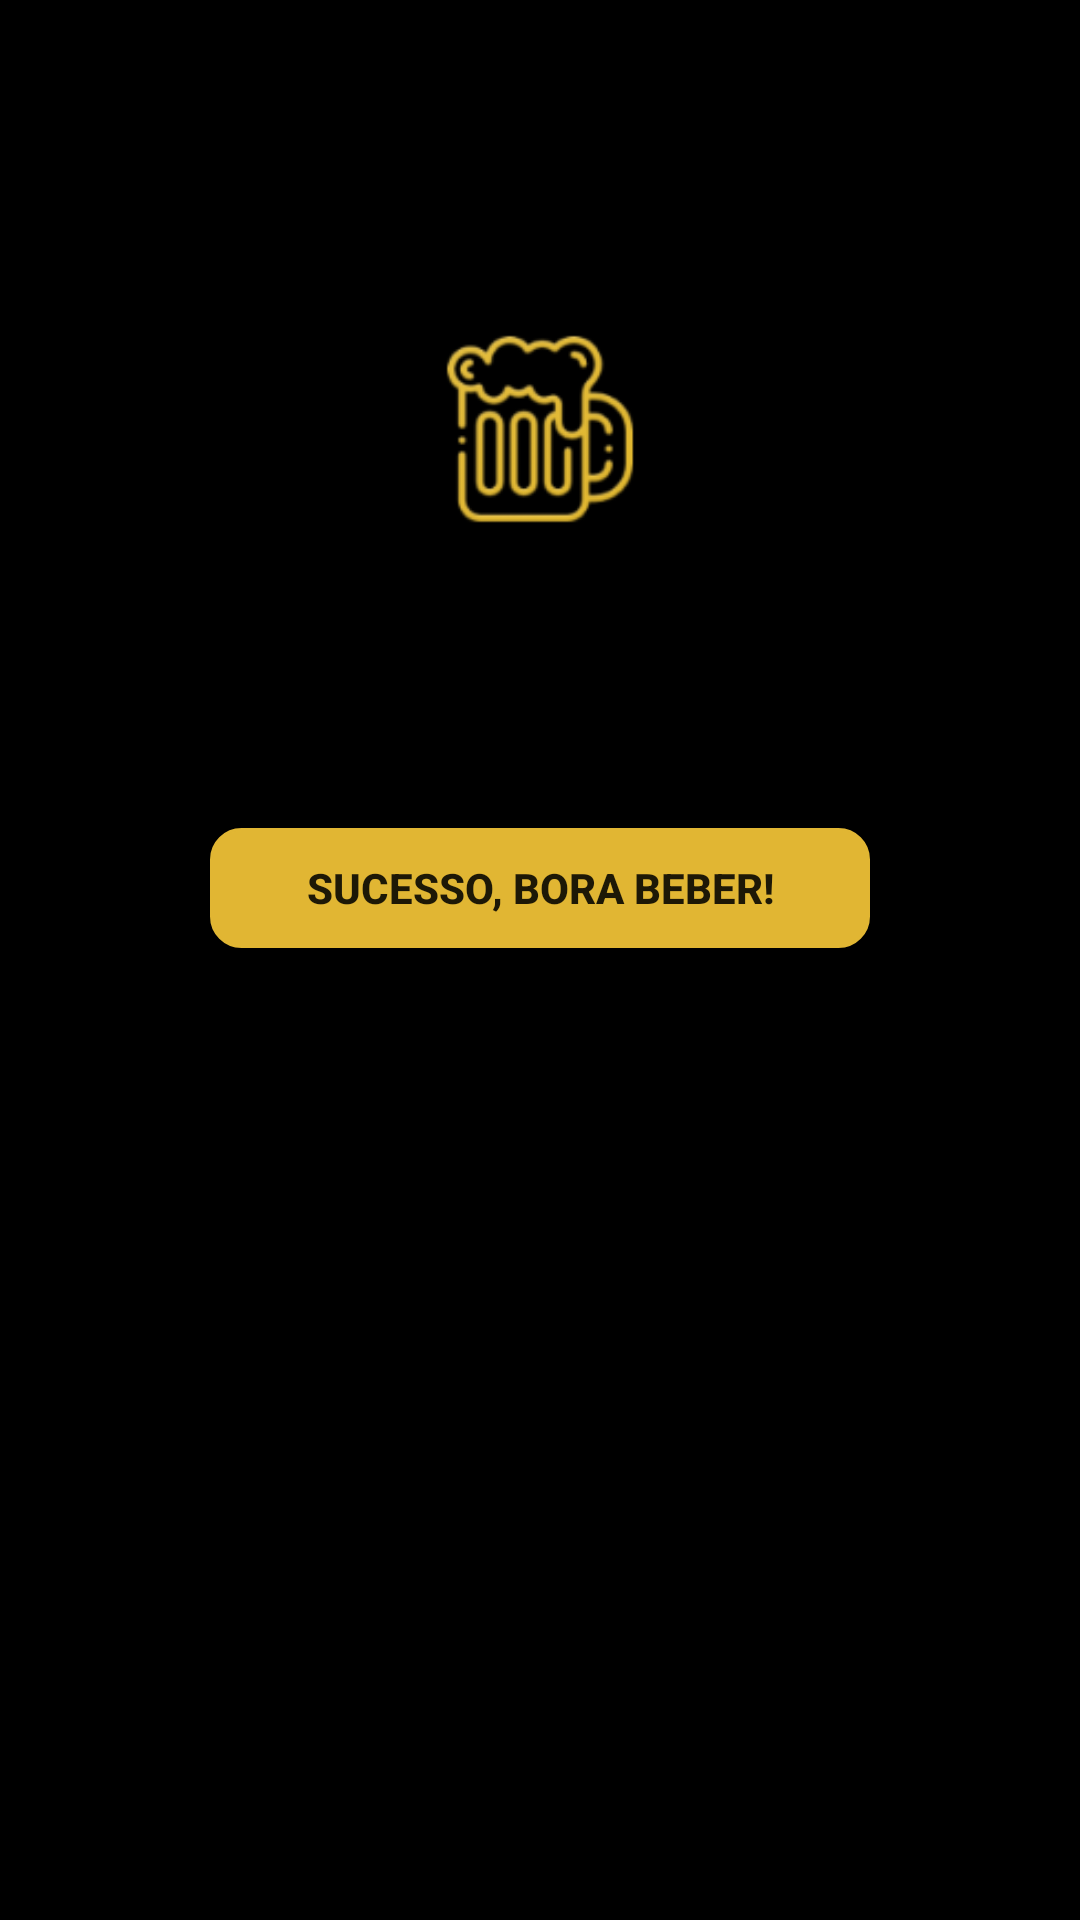

Point at icon controls on the screen. Image size 1080px x 1920px, points as (x,y).
beer: (540,429)
